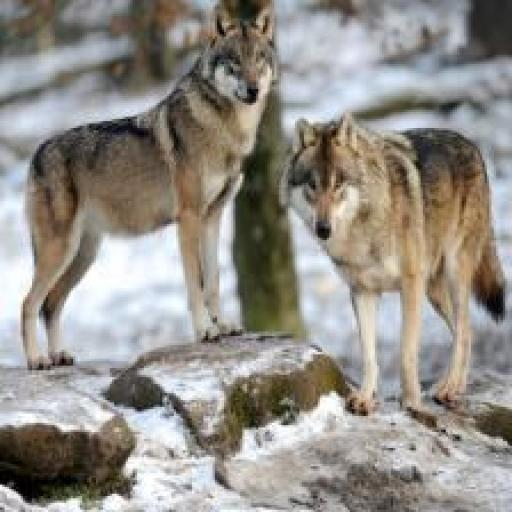wolf: (20, 0, 279, 373), (274, 108, 512, 468)
